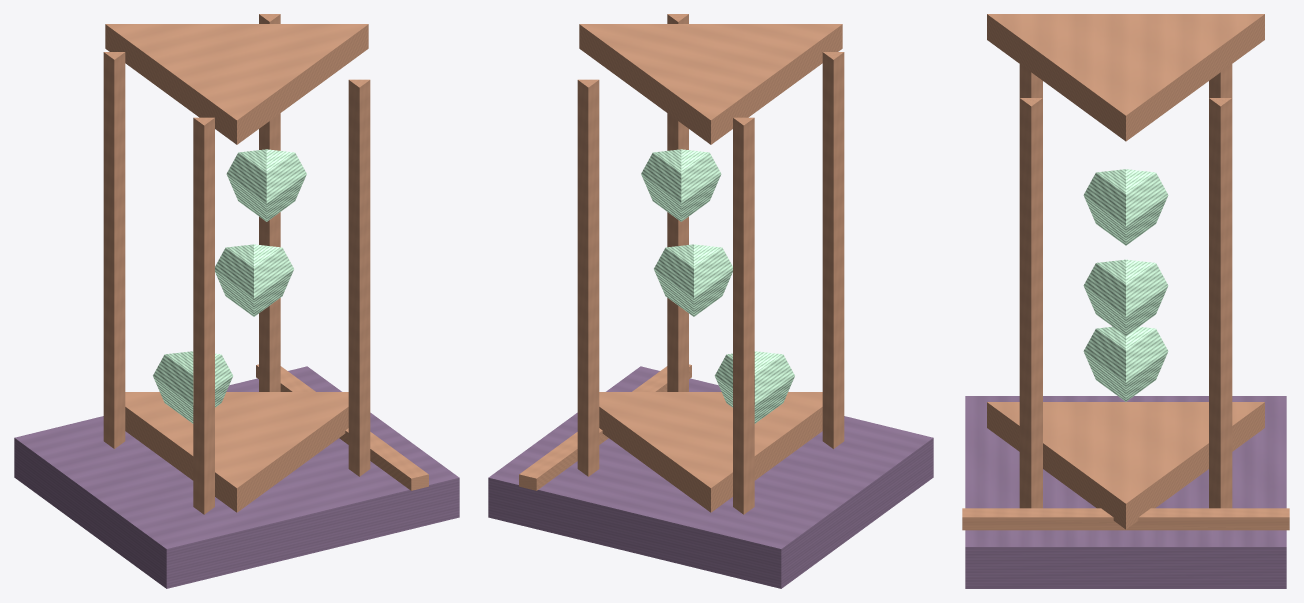
The model's file is atlas100-s090-a04.lod2.glb.
3 views of the same model, side by side, from view 1: azimuth 30°, elevation 25°; view 2: azimuth 150°, elevation 25°; view 3: azimuth 270°, elevation 25° (orthographic). The views are drawn at different scales.
Visible parts, largest first — view 1: atlas100-s090-a04:part-000, atlas100-s090-a04:part-004, atlas100-s090-a04:part-003, atlas100-s090-a04:part-005, atlas100-s090-a04:part-009, atlas100-s090-a04:part-007, atlas100-s090-a04:part-015, atlas100-s090-a04:part-014, atlas100-s090-a04:part-011, atlas100-s090-a04:part-013, atlas100-s090-a04:part-002; view 2: atlas100-s090-a04:part-000, atlas100-s090-a04:part-004, atlas100-s090-a04:part-003, atlas100-s090-a04:part-011, atlas100-s090-a04:part-007, atlas100-s090-a04:part-009, atlas100-s090-a04:part-015, atlas100-s090-a04:part-014, atlas100-s090-a04:part-005, atlas100-s090-a04:part-013, atlas100-s090-a04:part-002; view 3: atlas100-s090-a04:part-000, atlas100-s090-a04:part-004, atlas100-s090-a04:part-003, atlas100-s090-a04:part-005, atlas100-s090-a04:part-011, atlas100-s090-a04:part-002, atlas100-s090-a04:part-014, atlas100-s090-a04:part-015, atlas100-s090-a04:part-013, atlas100-s090-a04:part-007, atlas100-s090-a04:part-009.
Boxes of the visible parts, left/top/right/bottom form: atlas100-s090-a04:part-000: left=14, top=366, right=459, bottom=588; atlas100-s090-a04:part-004: left=105, top=24, right=368, bottom=144; atlas100-s090-a04:part-003: left=125, top=392, right=348, bottom=512; atlas100-s090-a04:part-005: left=348, top=79, right=370, bottom=476; atlas100-s090-a04:part-009: left=103, top=52, right=125, bottom=448; atlas100-s090-a04:part-007: left=193, top=117, right=214, bottom=514; atlas100-s090-a04:part-015: left=226, top=149, right=306, bottom=221; atlas100-s090-a04:part-014: left=215, top=244, right=293, bottom=316; atlas100-s090-a04:part-011: left=259, top=14, right=280, bottom=391; atlas100-s090-a04:part-013: left=153, top=351, right=233, bottom=423; atlas100-s090-a04:part-002: left=256, top=364, right=428, bottom=490; atlas100-s090-a04:part-000: left=488, top=366, right=933, bottom=588; atlas100-s090-a04:part-004: left=579, top=24, right=842, bottom=144; atlas100-s090-a04:part-003: left=599, top=392, right=822, bottom=512; atlas100-s090-a04:part-011: left=577, top=79, right=599, bottom=476; atlas100-s090-a04:part-007: left=822, top=52, right=844, bottom=448; atlas100-s090-a04:part-009: left=733, top=117, right=754, bottom=514; atlas100-s090-a04:part-015: left=641, top=149, right=721, bottom=221; atlas100-s090-a04:part-014: left=654, top=244, right=732, bottom=316; atlas100-s090-a04:part-005: left=667, top=14, right=688, bottom=391; atlas100-s090-a04:part-013: left=714, top=351, right=794, bottom=423; atlas100-s090-a04:part-002: left=519, top=364, right=691, bottom=490; atlas100-s090-a04:part-000: left=965, top=396, right=1286, bottom=588; atlas100-s090-a04:part-004: left=987, top=14, right=1264, bottom=141; atlas100-s090-a04:part-003: left=987, top=402, right=1264, bottom=529; atlas100-s090-a04:part-005: left=1019, top=98, right=1042, bottom=508; atlas100-s090-a04:part-011: left=1209, top=98, right=1232, bottom=508; atlas100-s090-a04:part-002: left=962, top=508, right=1289, bottom=530; atlas100-s090-a04:part-014: left=1083, top=259, right=1168, bottom=335; atlas100-s090-a04:part-015: left=1083, top=169, right=1168, bottom=245; atlas100-s090-a04:part-013: left=1083, top=326, right=1168, bottom=401; atlas100-s090-a04:part-007: left=1019, top=64, right=1042, bottom=97; atlas100-s090-a04:part-009: left=1209, top=64, right=1232, bottom=97.
Size of the model in its own units: 2 by 2.88 by 1.84.
Materials: 3 (3 with a texture image).
